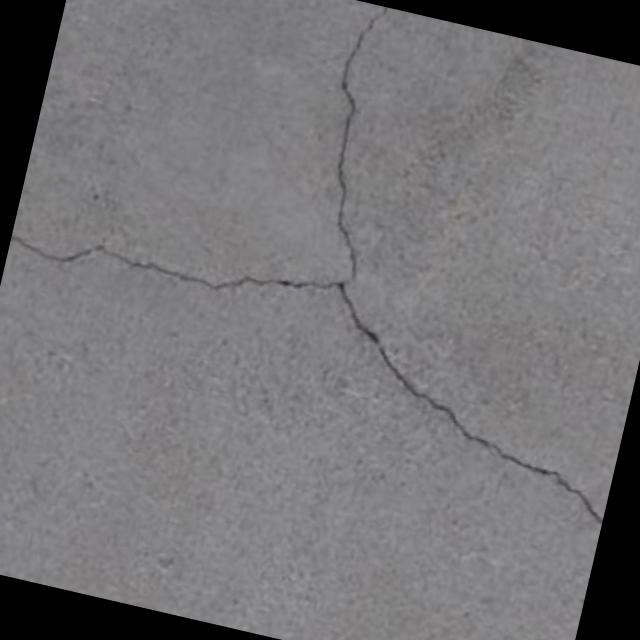crack: (312, 299, 636, 526), (7, 205, 353, 338), (294, 1, 416, 280)
